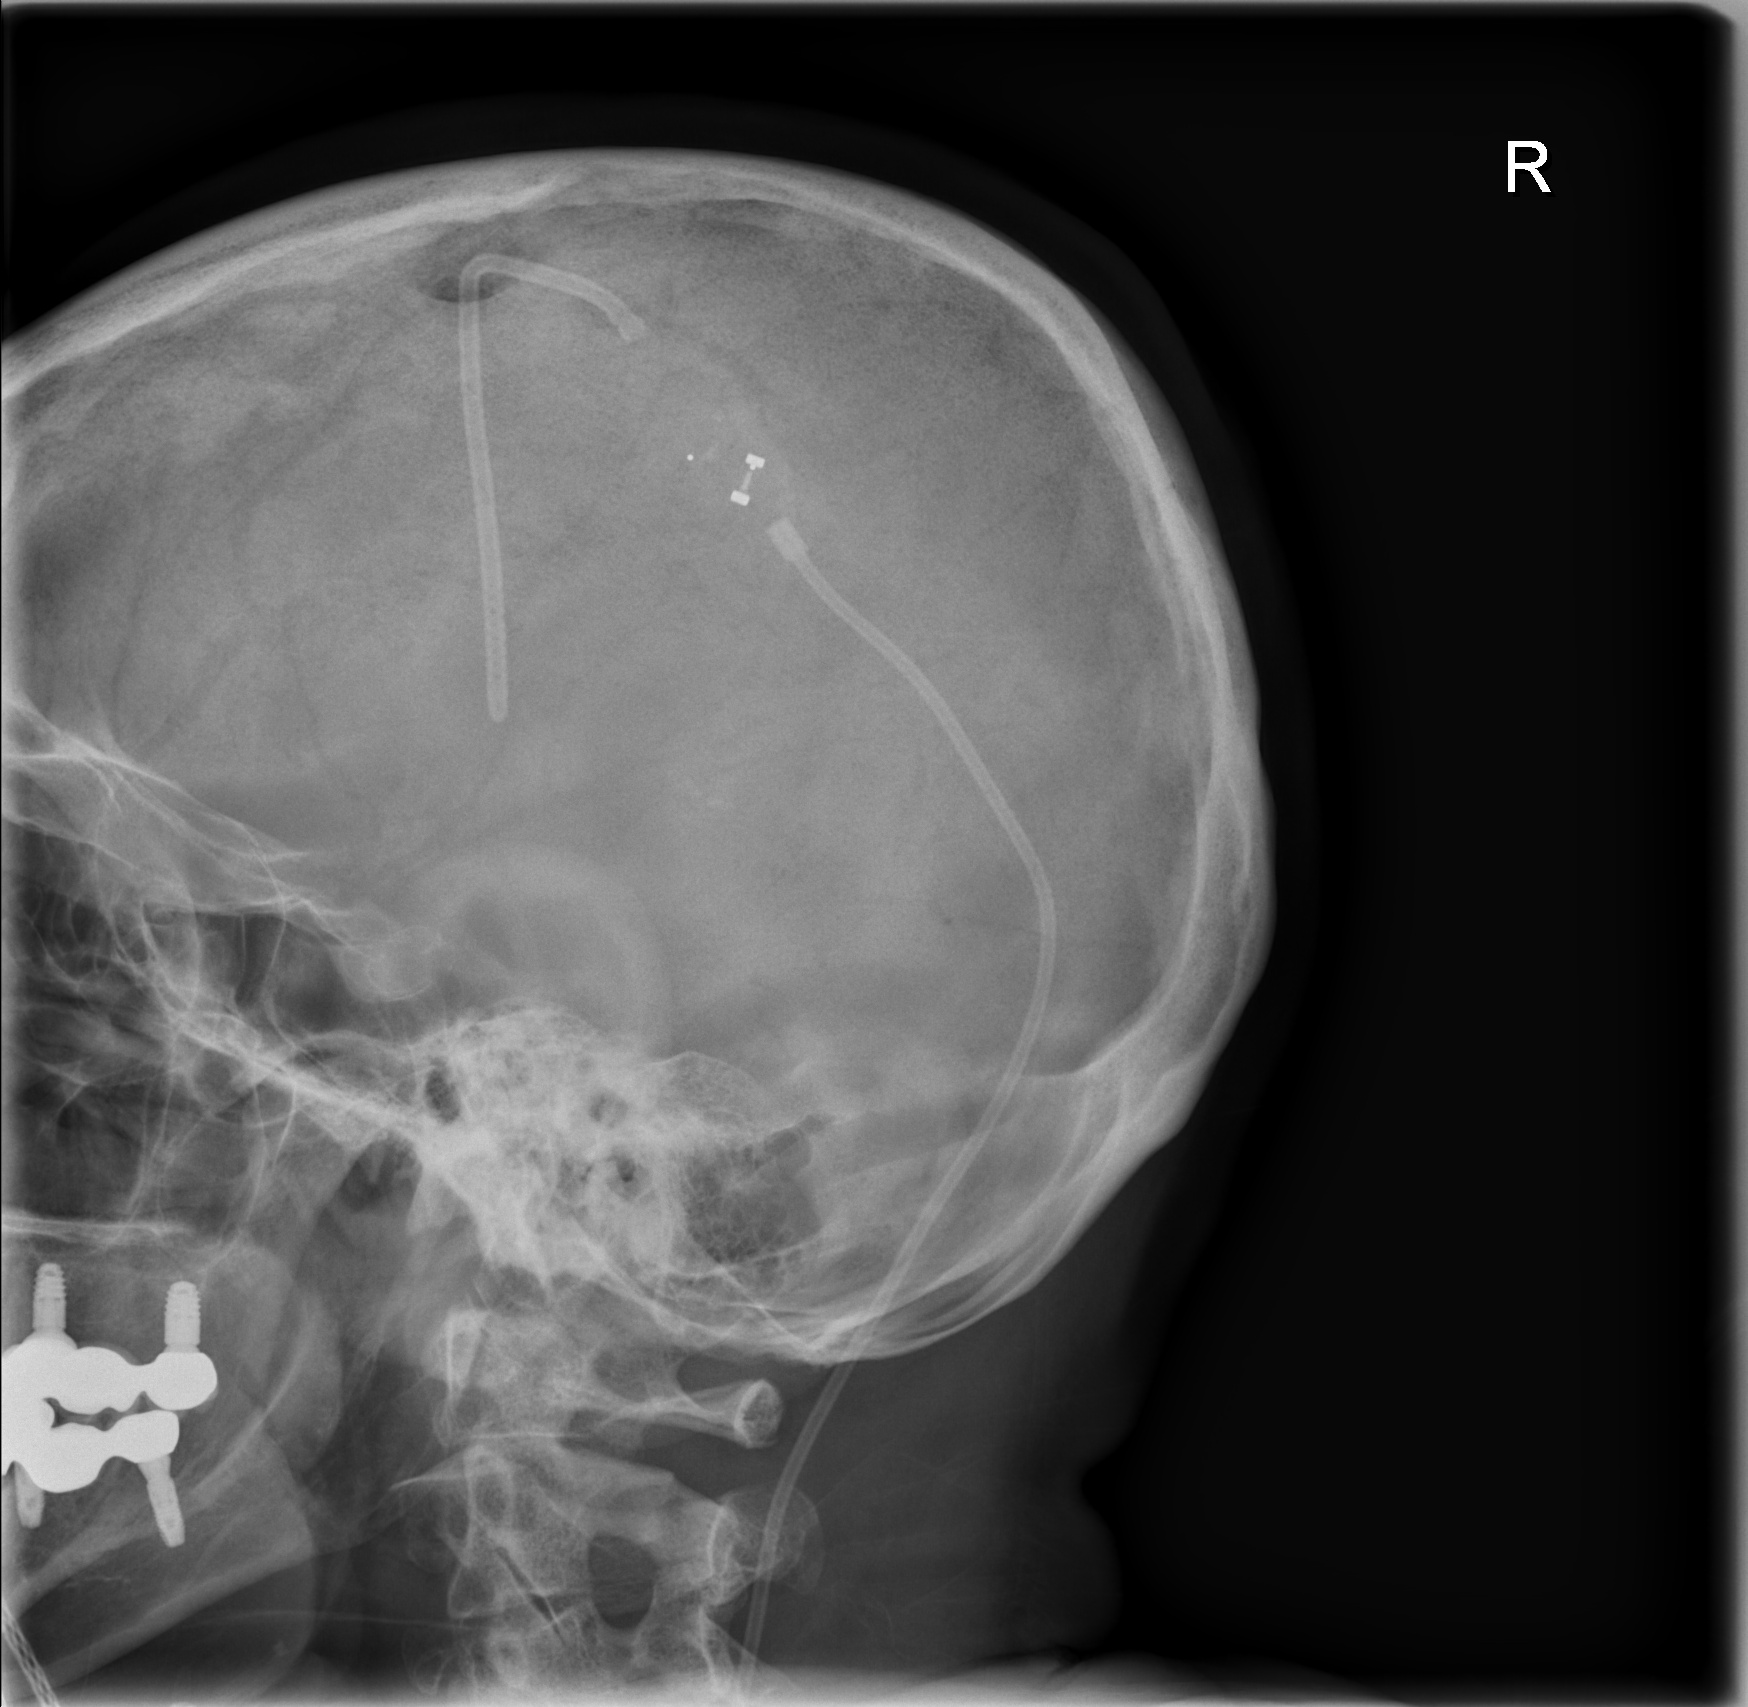Codman Certas: (675, 428, 791, 531)
